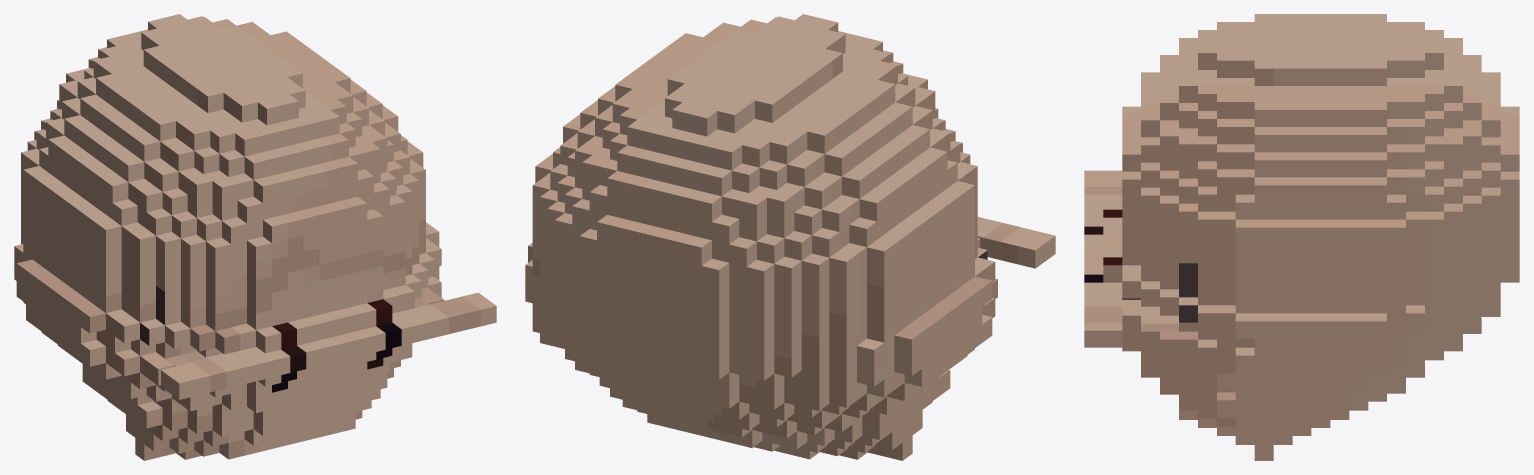
The model's file is head.gltf.
3 views of the same model, side by side, from view 1: azimuth 30°, elevation 25°; view 2: azimuth 150°, elevation 25°; view 3: azimuth 270°, elevation 25° (orthographic). The views are drawn at different scales.
Visible parts, largest first — view 1: head; view 2: head; view 3: head.
Part boxes in pixels (x1,y1,x2,y2): head: (14,14,496,460); head: (525,14,1055,460); head: (1084,14,1519,460).
Bounding box in the file's own units: 22 × 21 × 23.
